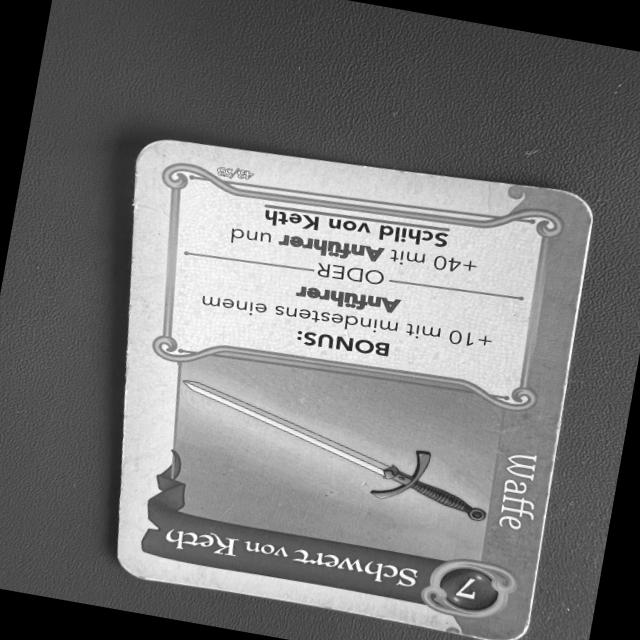Sword of Keth: (112, 127, 608, 640)
